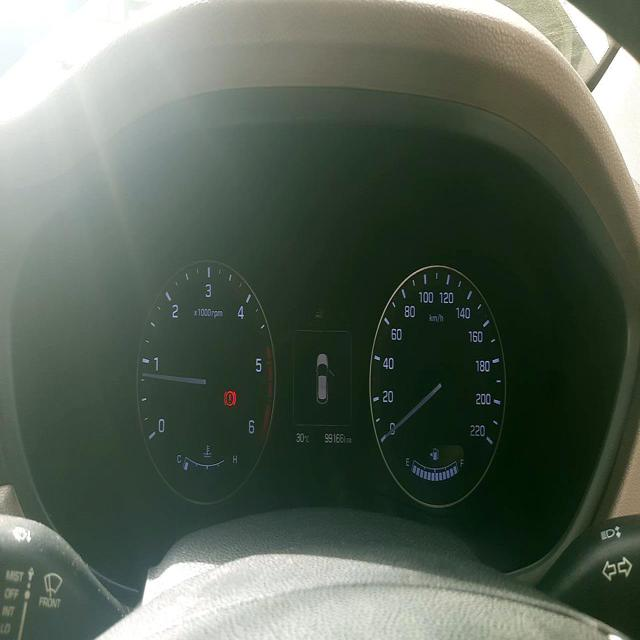odometer: (321, 430, 345, 446)
